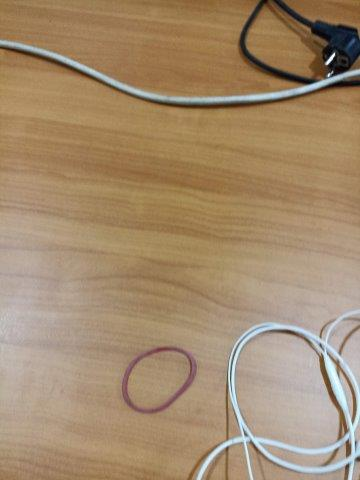karet: (121, 345, 198, 414)
